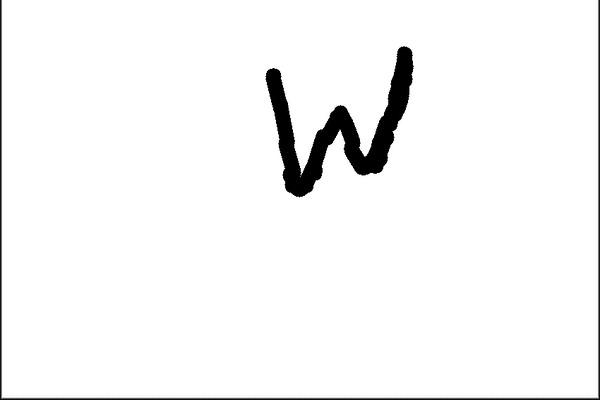w: (249, 28, 430, 215)
